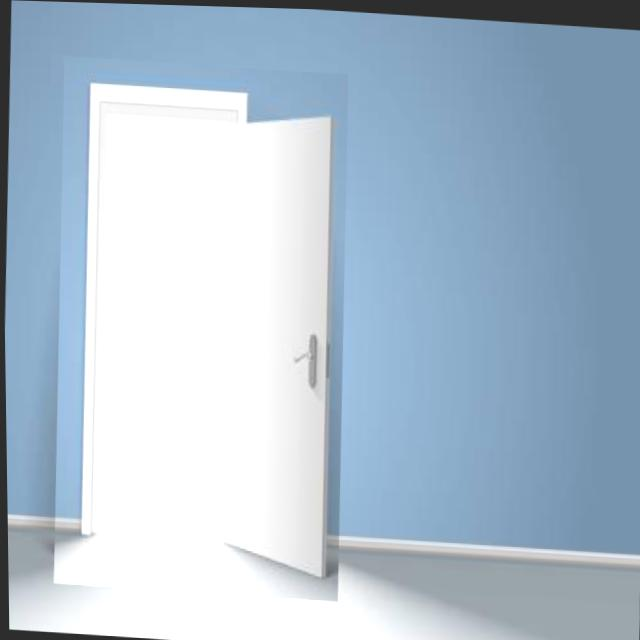open: (45, 55, 355, 601)
